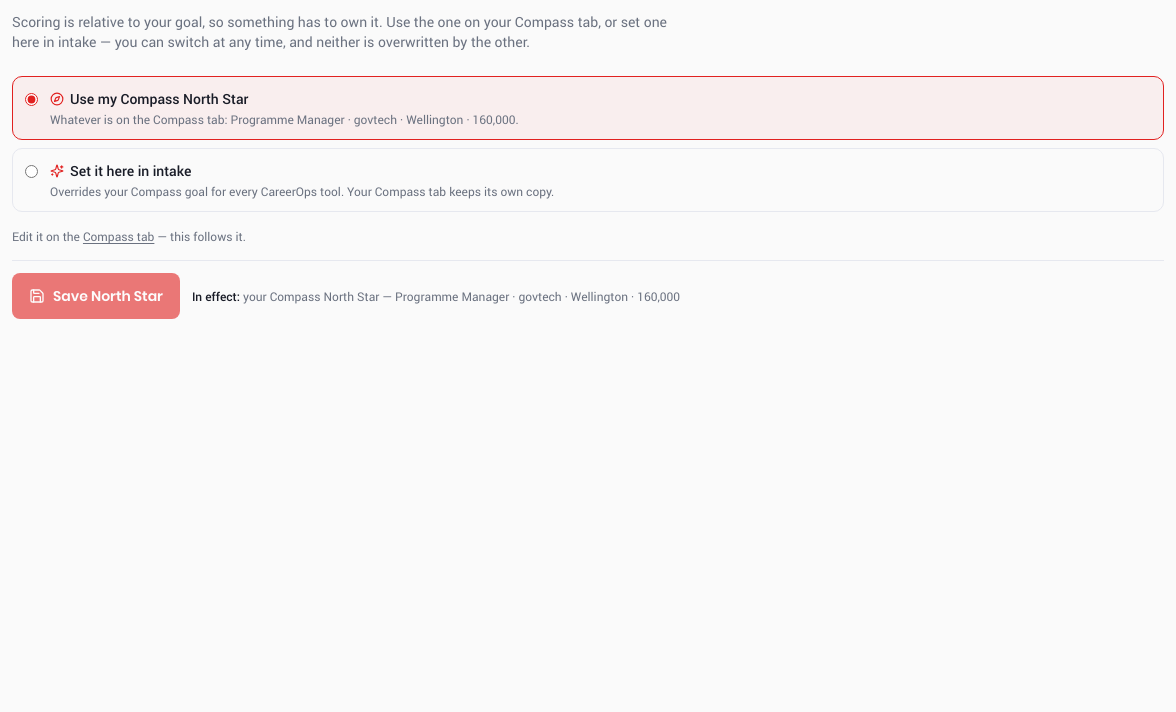
Scenario: NorthStarSource — choosing the process › reveals the same five North Star fields as the Compass tab when intake is picked
Click the radio button labelled "Set it here in intake": (32, 172) [25,165,38,178]
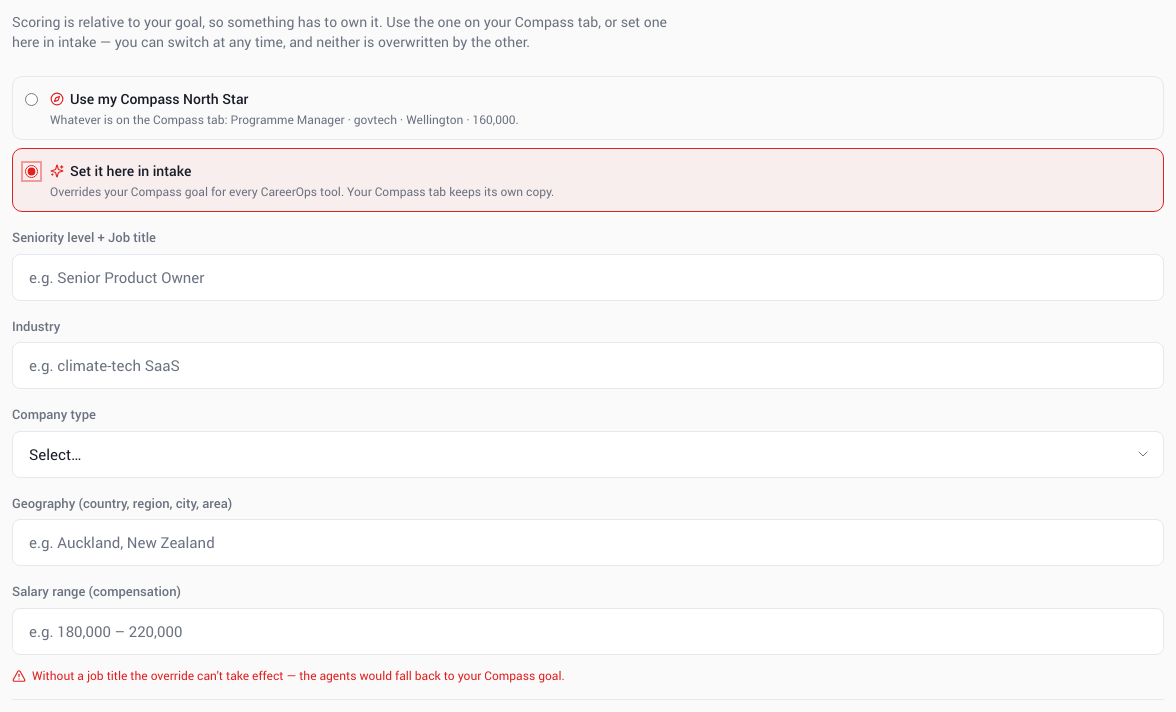
Expected: the field labelled "Seniority level + Job title" is shown, [12,254,1164,300]
Expected: the field labelled "Industry" is shown, [12,342,1164,389]
Expected: the dropdown labelled "Company type" is shown, [12,430,1164,478]
